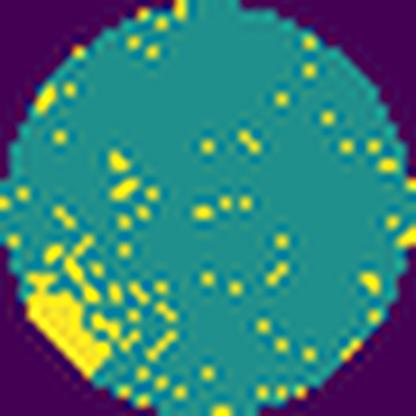Edge-Loc: (26, 259, 115, 379)
